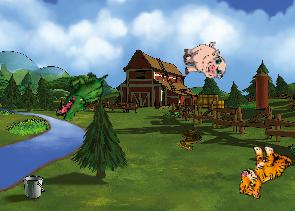crocodile: (53, 61, 110, 130)
pig: (181, 41, 226, 82)
tiger: (235, 140, 293, 204)
